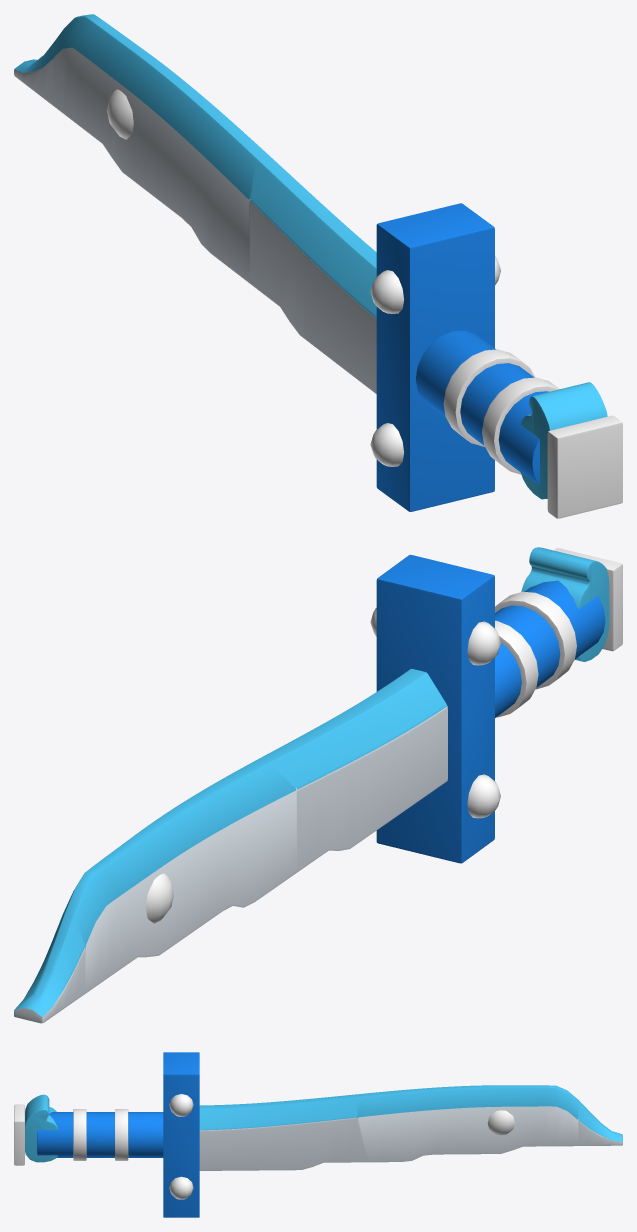
File: Sword_SnowpackFalchion.glb
The picture shows the model from 3 angles, top to bottom: view 1: azimuth 30°, elevation 25°; view 2: azimuth 150°, elevation 25°; view 3: azimuth 270°, elevation 25°; orthographic projection. The views are drawn at different scales.
Visible parts, largest first — view 1: Sword_SnowpackFalchion; view 2: Sword_SnowpackFalchion; view 3: Sword_SnowpackFalchion.
Boxes of the visible parts, x1,y1,x2,y2 form: Sword_SnowpackFalchion: [14, 14, 622, 518]; Sword_SnowpackFalchion: [14, 547, 622, 1023]; Sword_SnowpackFalchion: [14, 1052, 622, 1217].
Bounding box in the file's own units: 0.128 × 0.26 × 1.
1 material, 1 textured.
